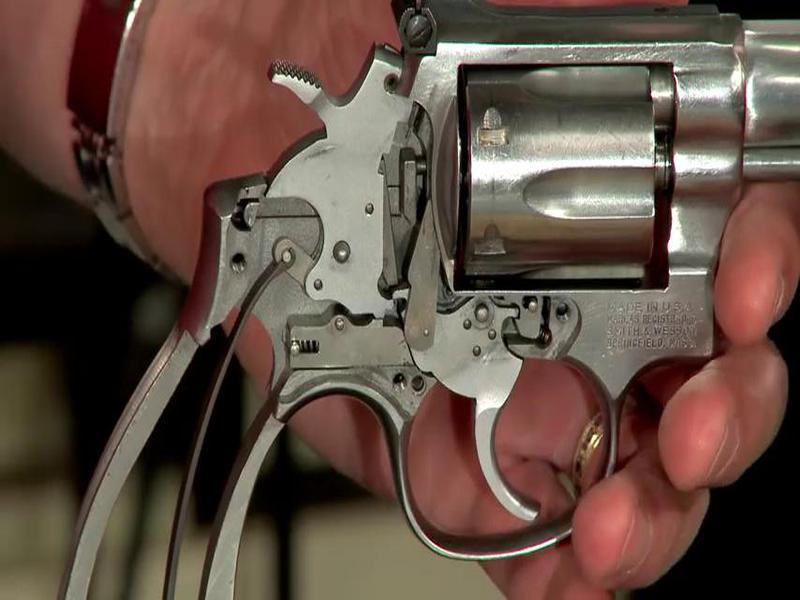Revolver: (83, 24, 800, 514)
